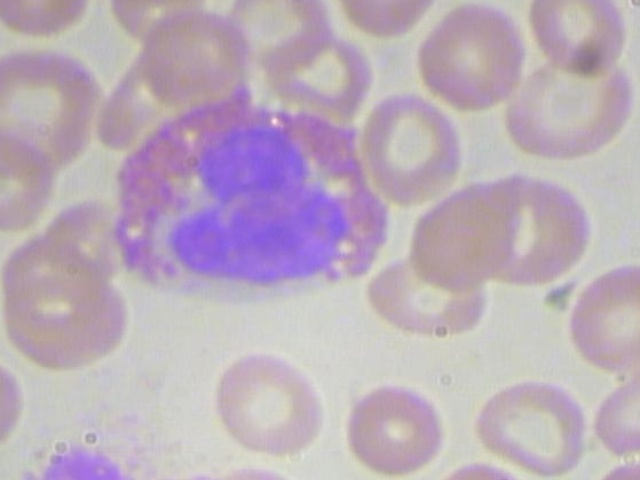RBC: (344, 86, 479, 214), (498, 52, 639, 160), (405, 0, 532, 114), (207, 347, 335, 456), (329, 365, 457, 474), (468, 372, 596, 480), (405, 177, 515, 289), (553, 257, 640, 381), (516, 0, 640, 80), (0, 117, 62, 229), (0, 334, 30, 460)
WBC: (97, 100, 398, 298)
